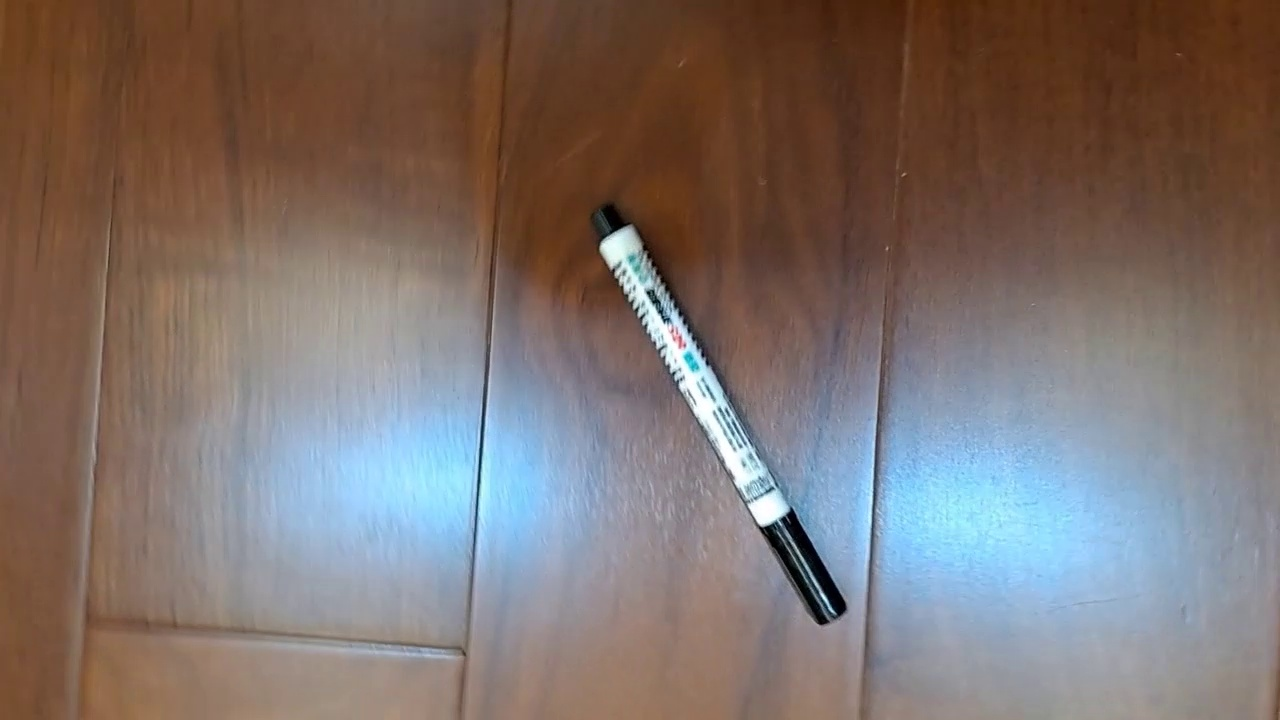pen: (588, 200, 848, 627)
